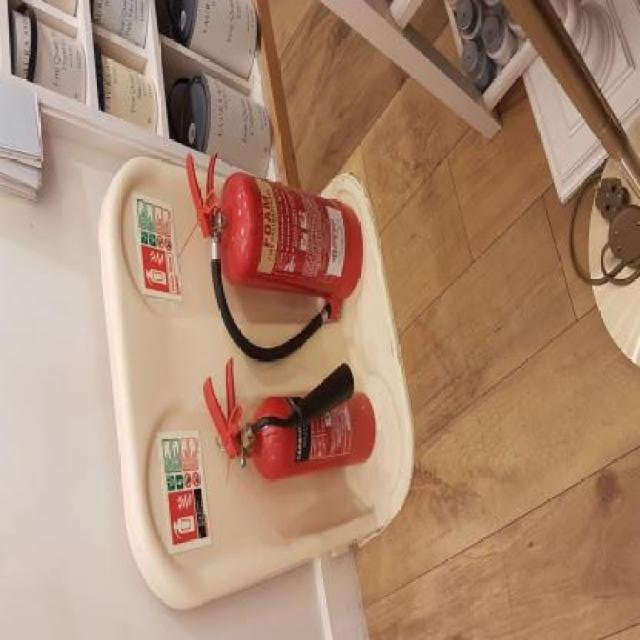fire extinguisher: (187, 153, 364, 362), (203, 355, 377, 480)
